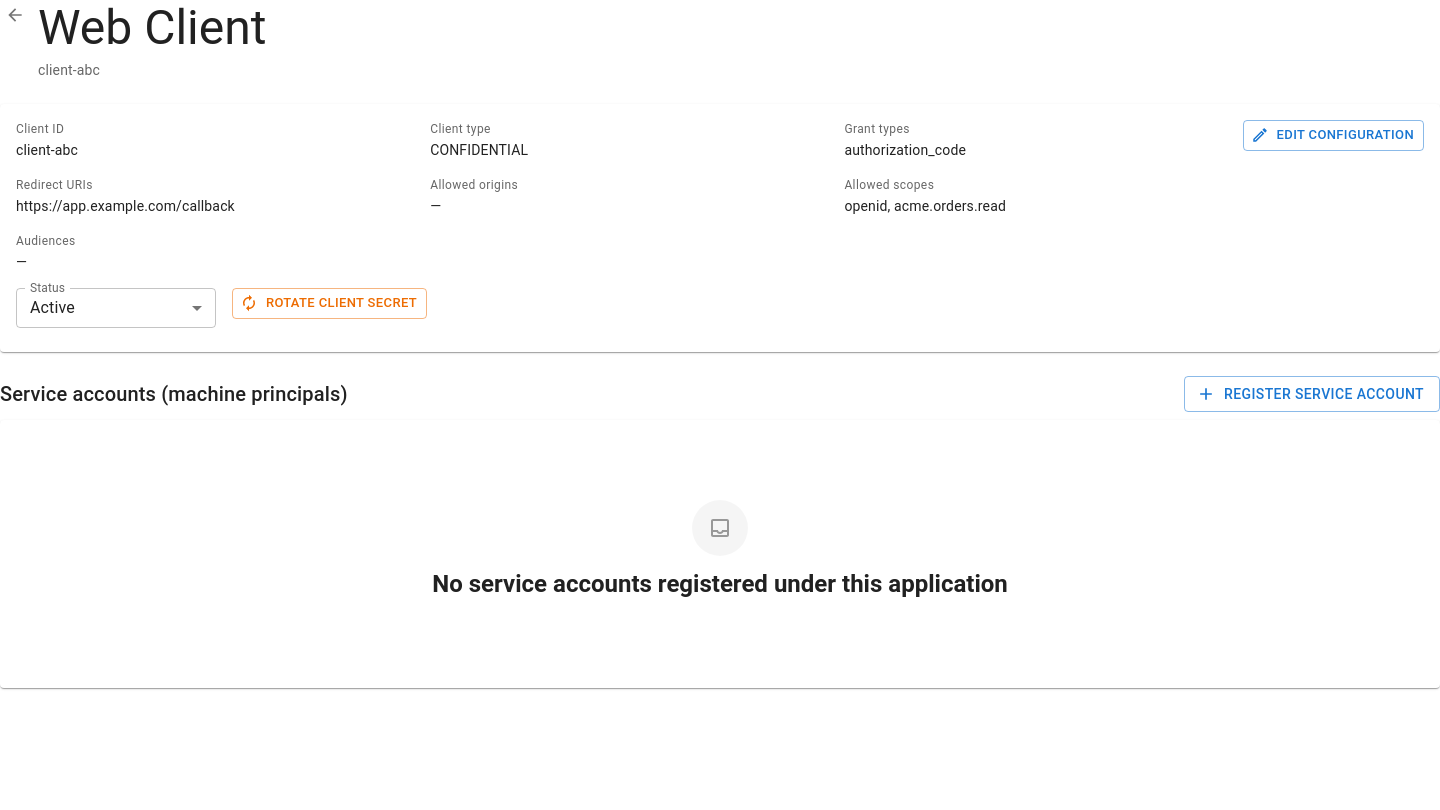
Test: PlatformApplicationDetailPage — configuration editing › saves an added redirect URI via PATCH, sending every configured field (a full replace, not a diff)
The width and height of the screenshot is (1440, 810).
Expected: the heading "Web Client" is shown, [38,0,266,56]
Click the button "Edit configuration" at coordinates (1333, 135), box [1243,120,1424,151]
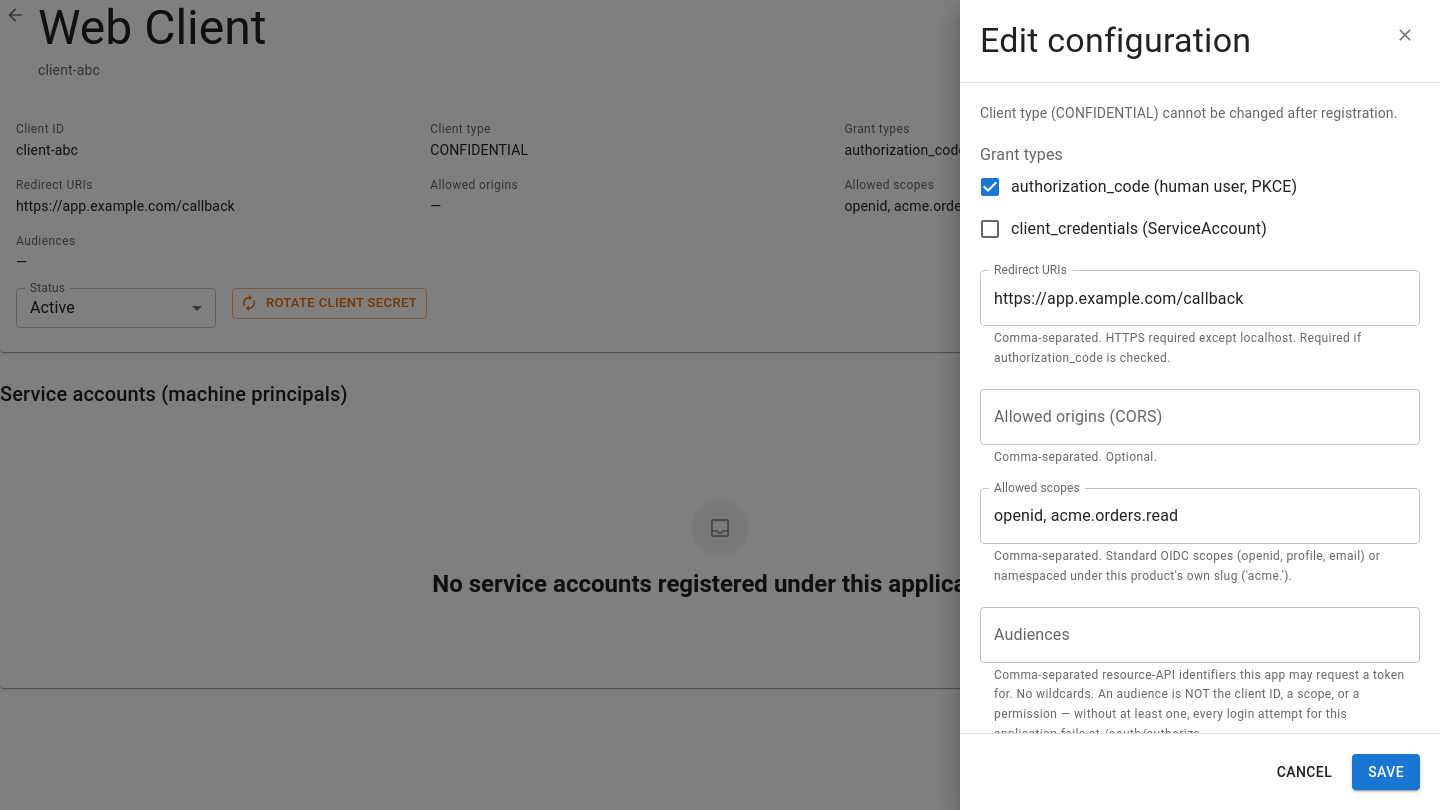
Type ", https://app.example.com/callback2" into the field labelled "Redirect URIs" at coordinates (1200, 298), box [980,270,1420,326]
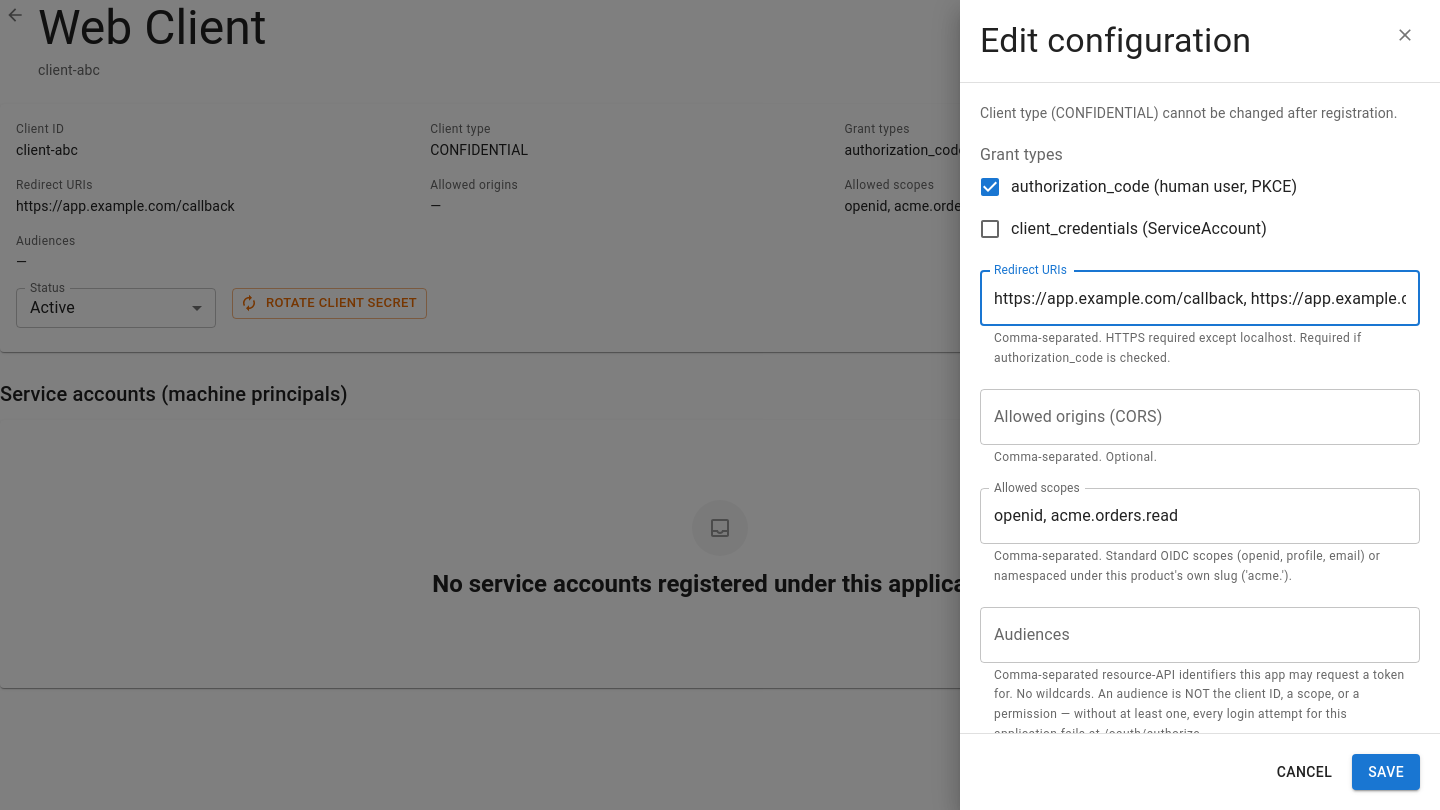
Click the button "Save" at coordinates (1386, 772), box [1352,754,1420,790]
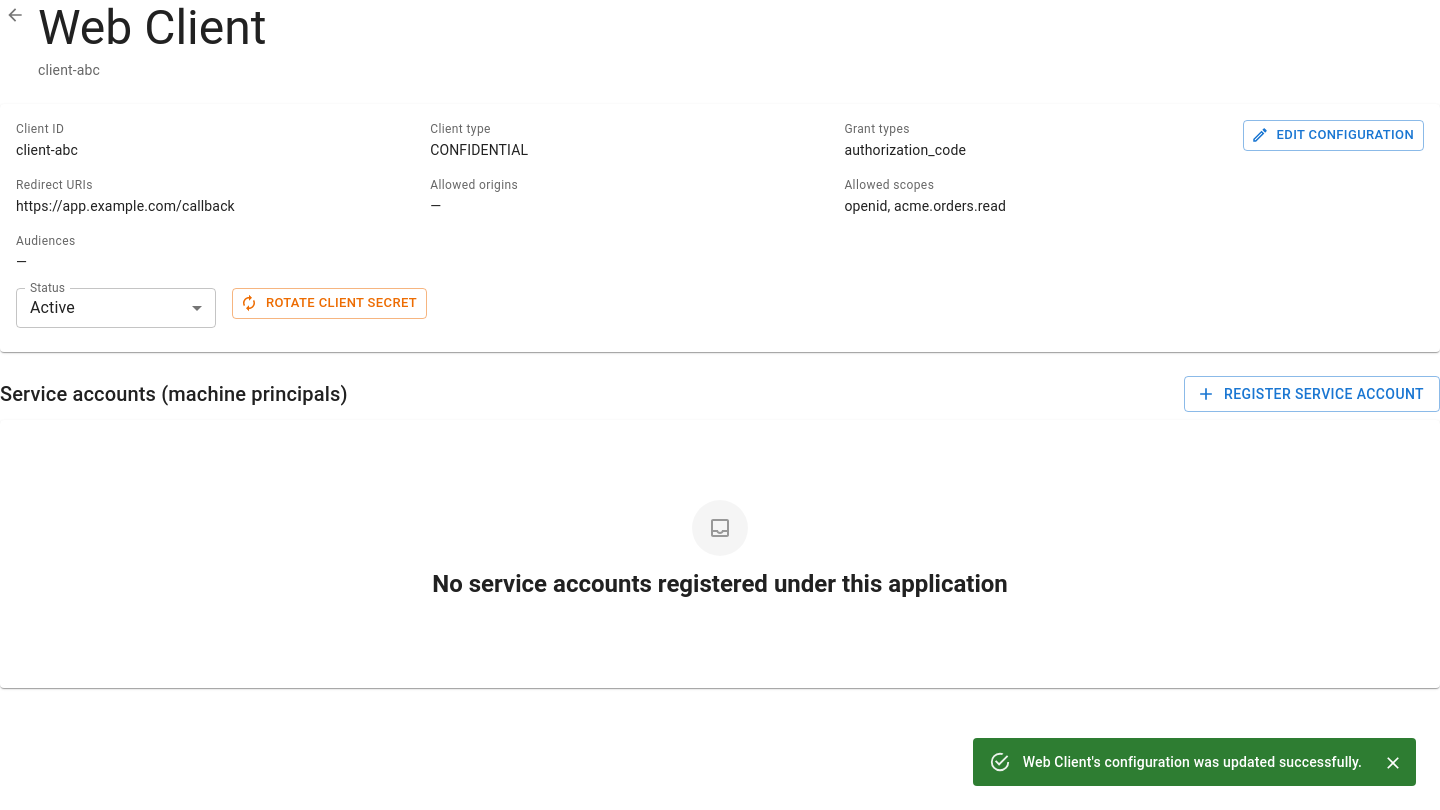
Expected: the text "Web Client's configuration was updated successfully." is shown, [1023,754,1362,770]
